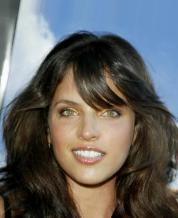face: (58, 98, 120, 165)
